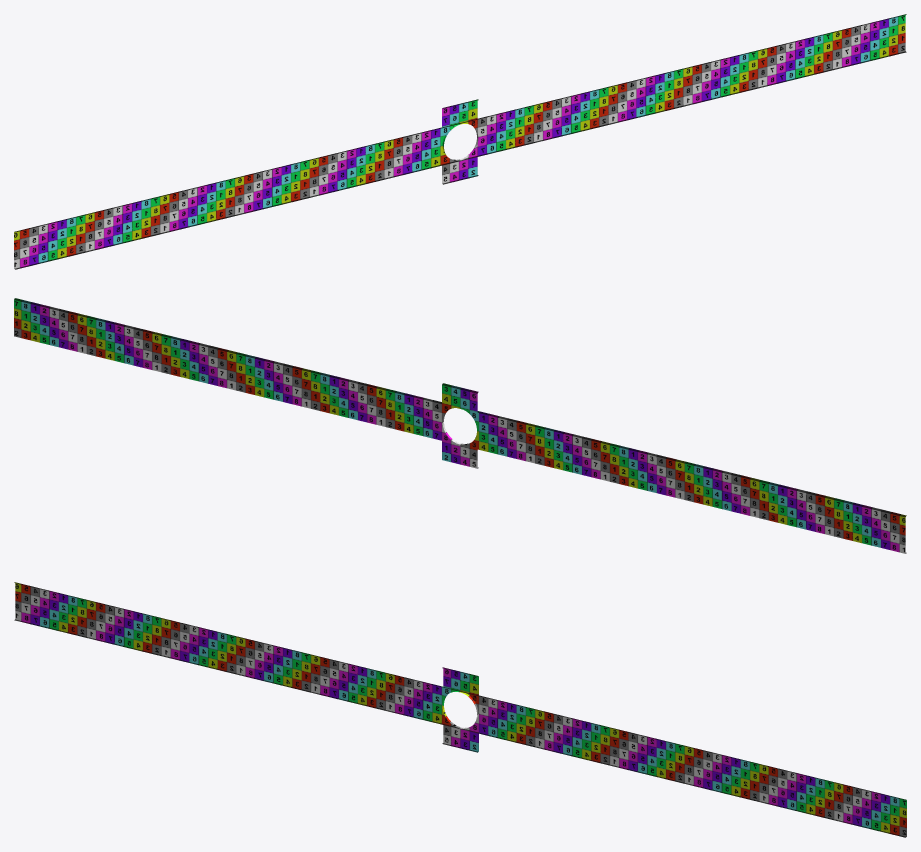
Rendered from roundTest2.glb.
3 views of the same model, one above another, from view 1: azimuth 30°, elevation 25°; view 2: azimuth 150°, elevation 25°; view 3: azimuth 330°, elevation 25° (orthographic).
Visible parts, largest first — view 1: panelWindowRound290OutsideMaxWidth, panelWindowRound290OutsideMaxHeight; view 2: panelWindowRound290OutsideMaxWidth, panelWindowRound290OutsideMaxHeight; view 3: panelWindowRound290OutsideMaxWidth, panelWindowRound290OutsideMaxHeight.
Boxes of the visible parts, x1,y1,x2,y2 form: panelWindowRound290OutsideMaxWidth: [14, 14, 906, 269]; panelWindowRound290OutsideMaxHeight: [442, 99, 478, 184]; panelWindowRound290OutsideMaxWidth: [14, 298, 906, 553]; panelWindowRound290OutsideMaxHeight: [442, 383, 478, 468]; panelWindowRound290OutsideMaxWidth: [14, 582, 906, 837]; panelWindowRound290OutsideMaxHeight: [442, 667, 478, 752].
Bounding box in the file's own units: 7.5 × 0.61 × 0.0199.
1 material, 1 textured.
